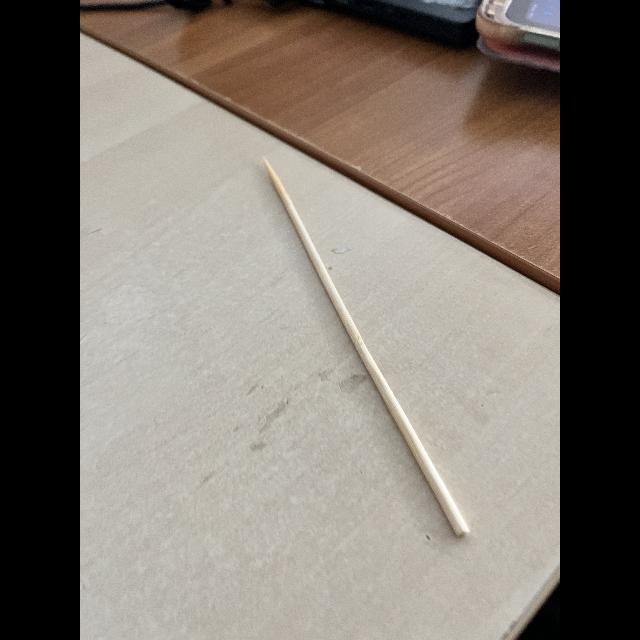stick: (255, 152, 470, 544)
